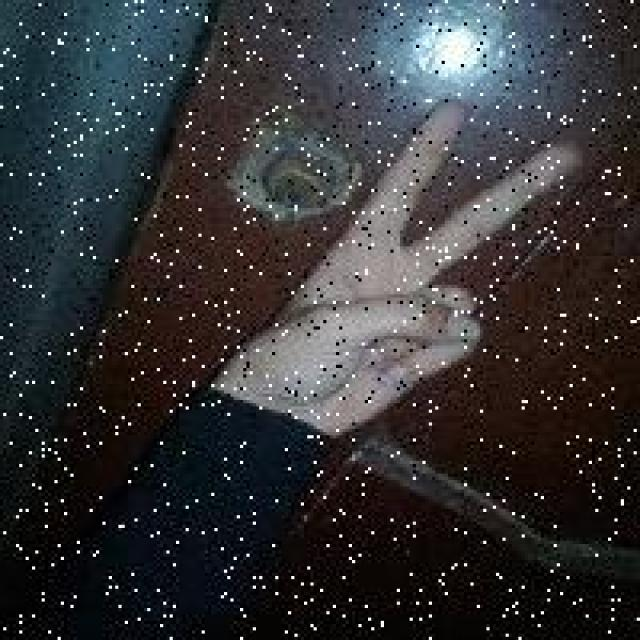V: (260, 91, 582, 405)
